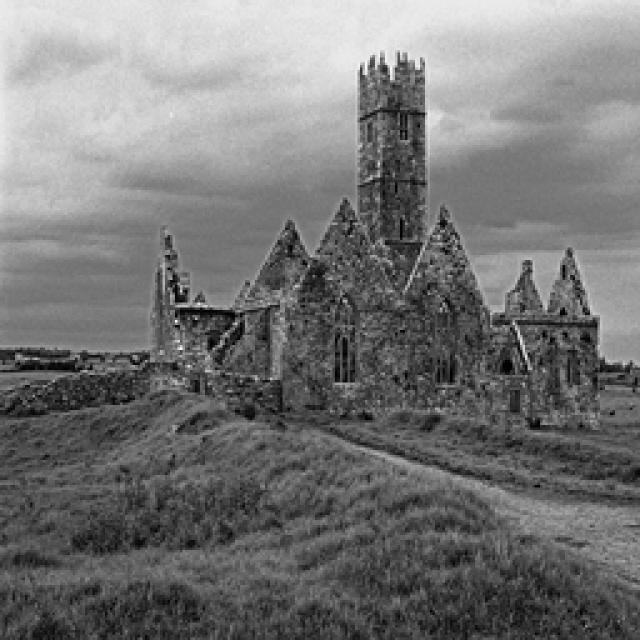Abbey: (144, 46, 606, 428)
